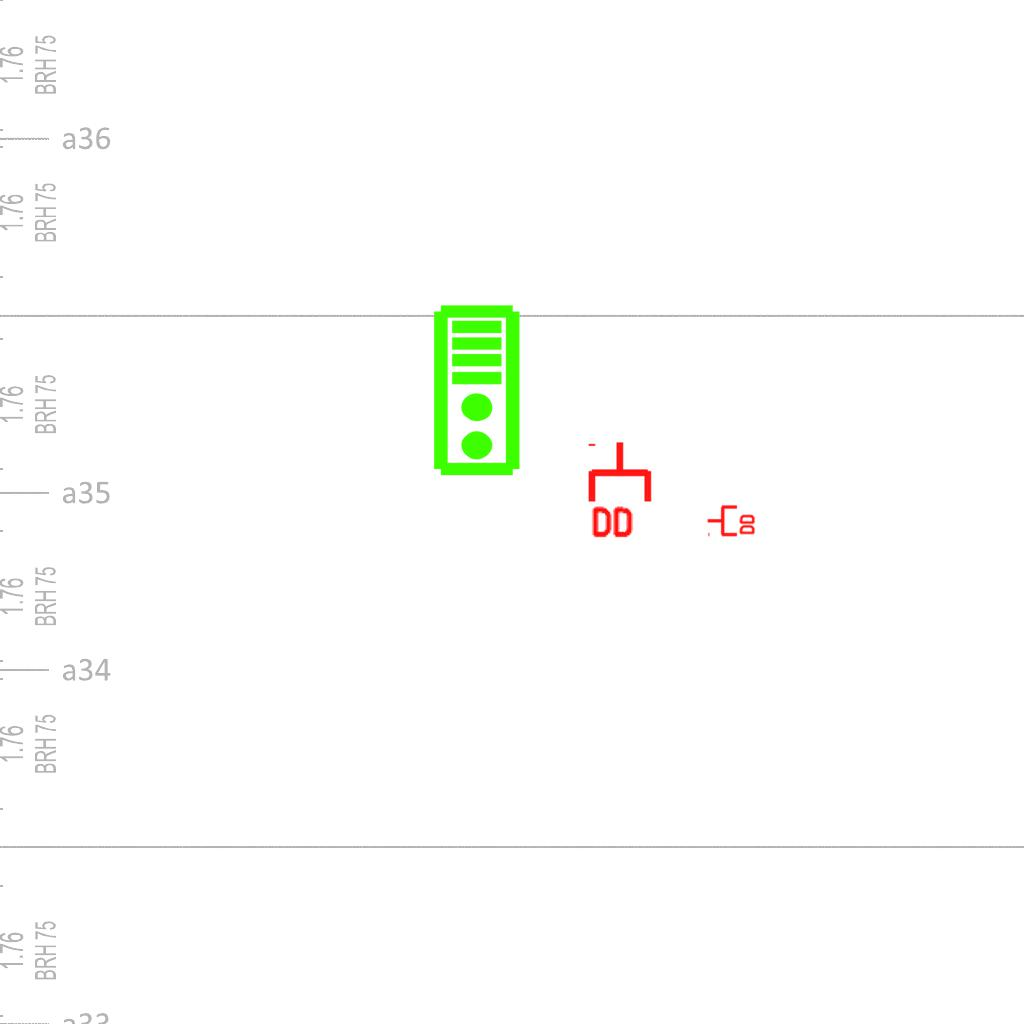Datenanschluss_zweifach: (587, 439, 656, 542), (706, 503, 757, 537)
Gegensprechanlage_mit_Video: (431, 303, 526, 479)
